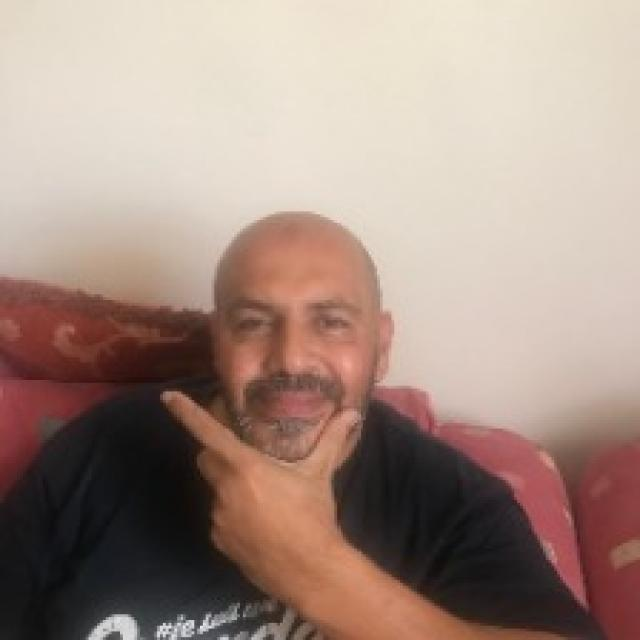smile: (154, 382, 366, 526)
